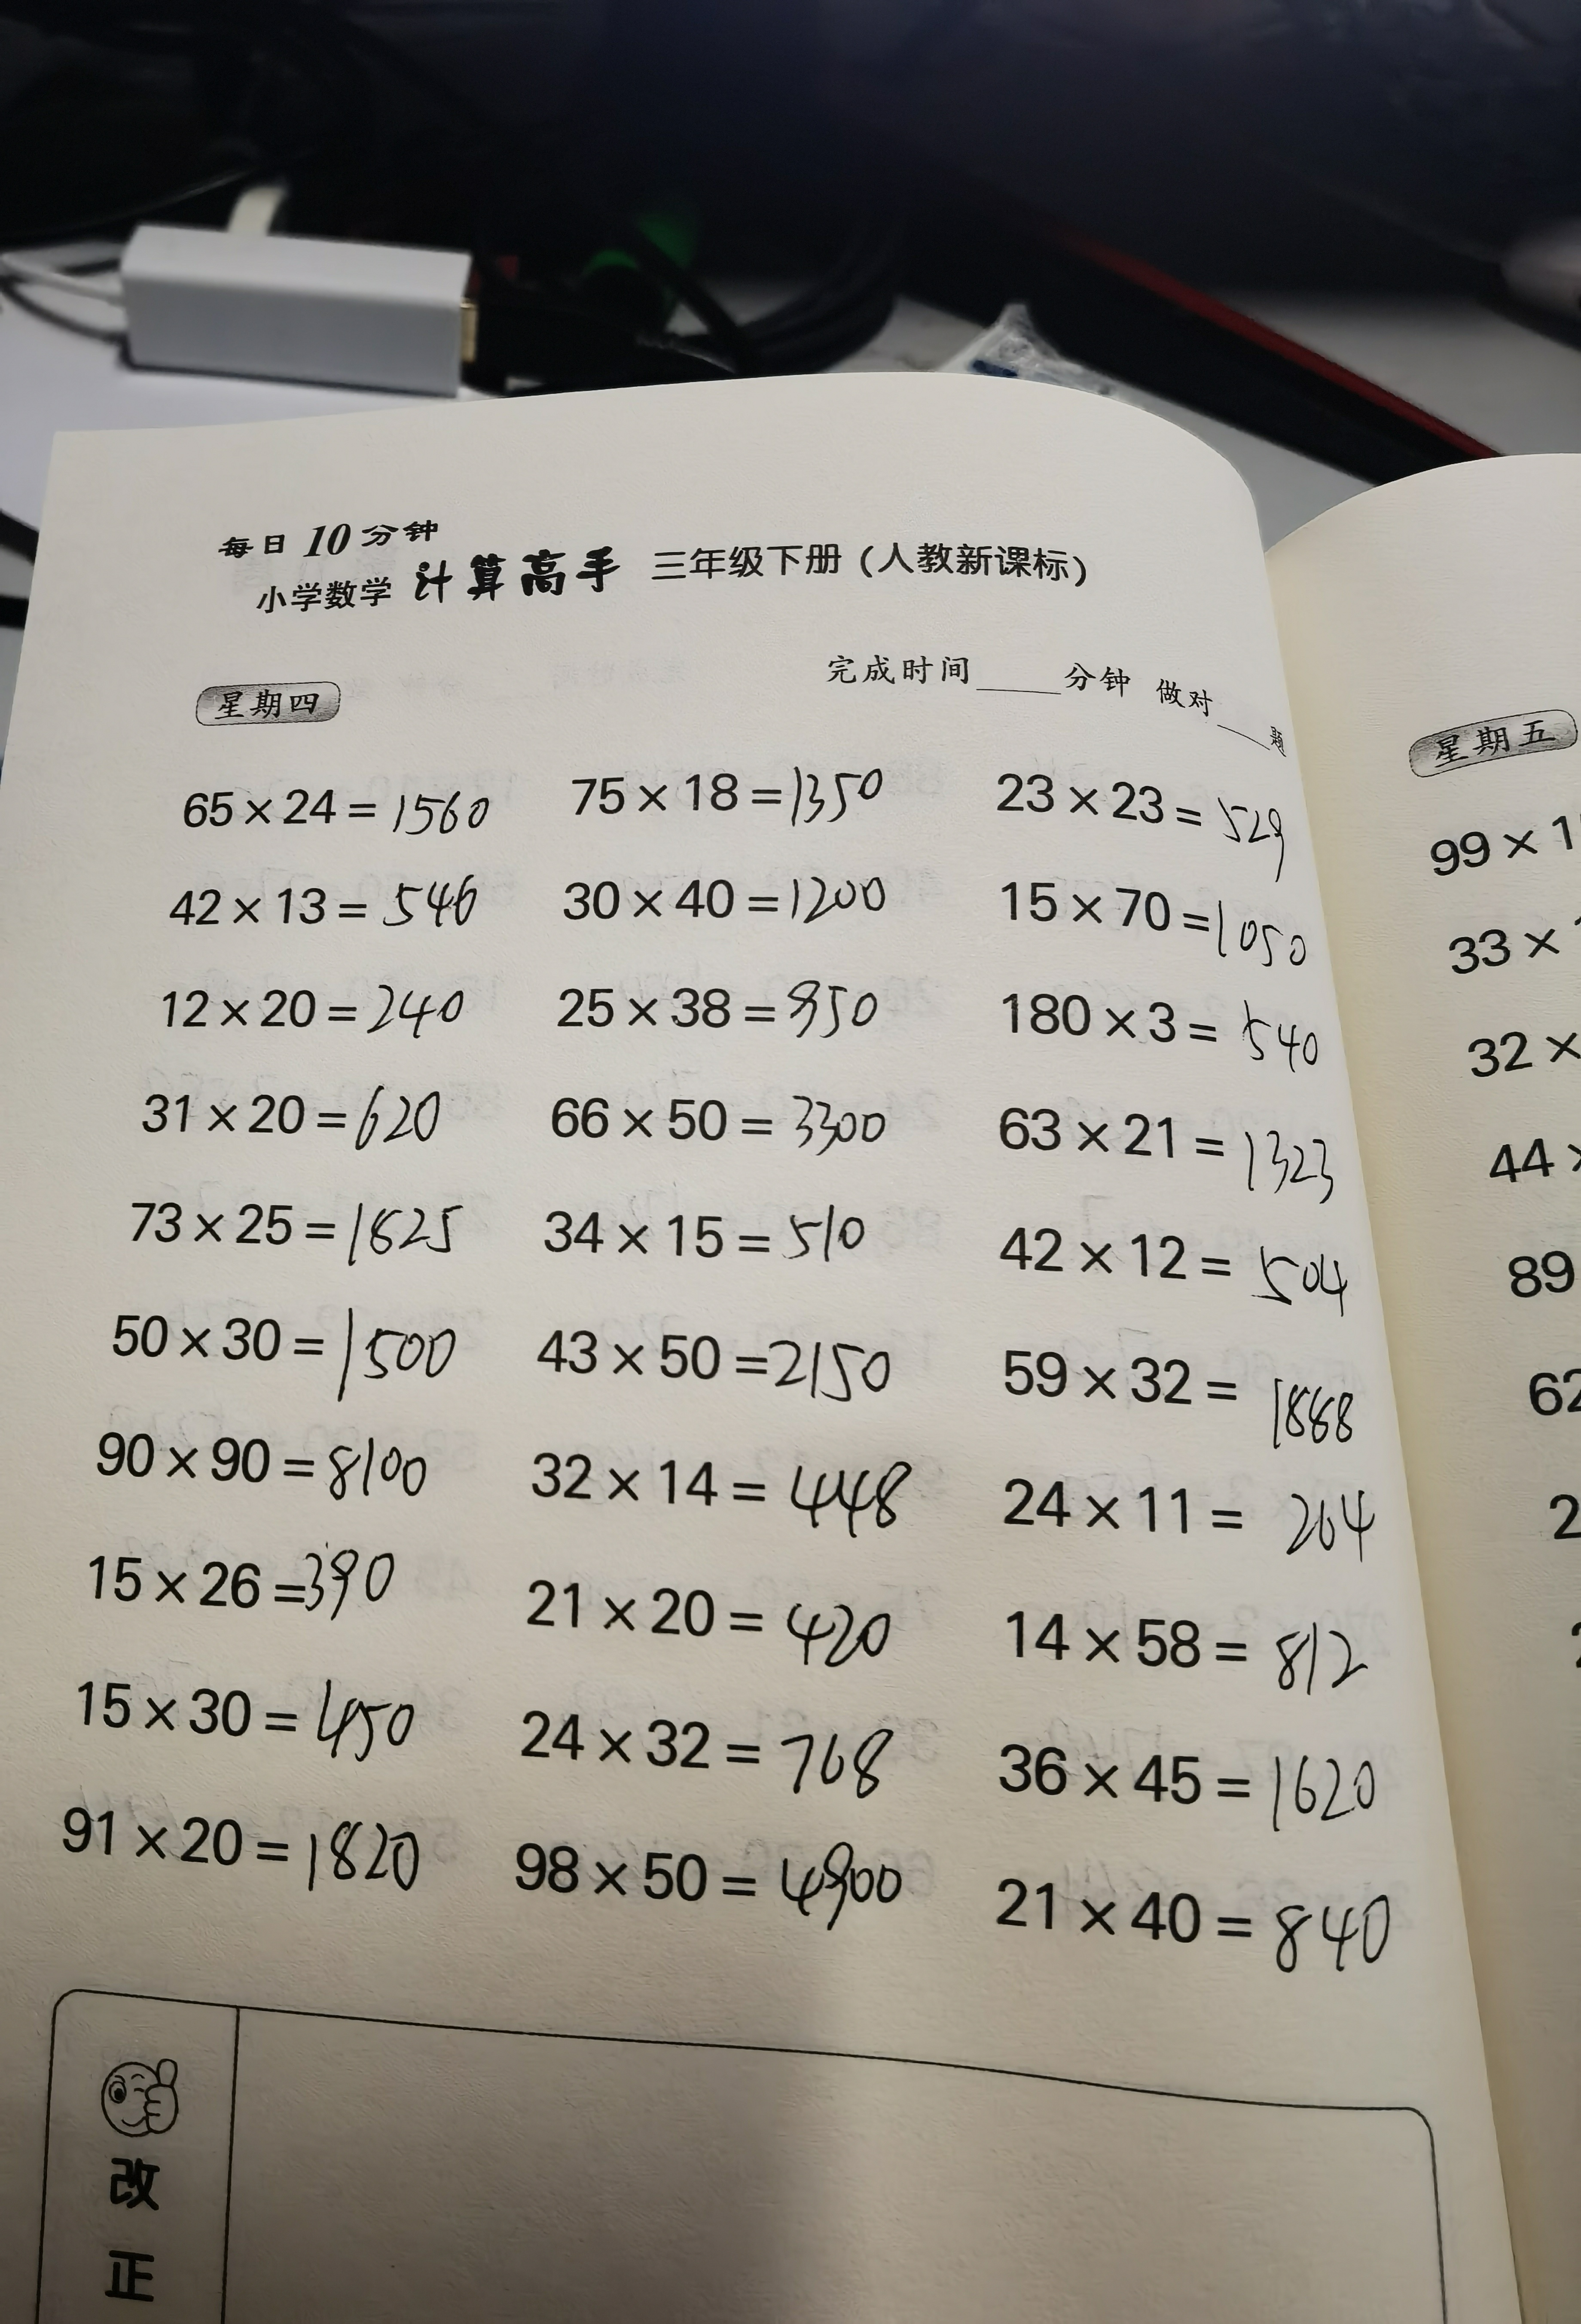equation: (30, 1765, 439, 1908), (985, 1560, 1394, 1699), (1000, 1851, 1405, 1990), (974, 1323, 1403, 1451), (999, 1692, 1389, 1826), (528, 1417, 935, 1541), (505, 1807, 926, 1923), (510, 1683, 937, 1798), (1004, 967, 1378, 1089), (72, 1405, 436, 1528), (974, 736, 1313, 868), (1000, 1456, 1396, 1569), (974, 1221, 1396, 1323), (515, 1562, 903, 1669), (529, 1301, 903, 1412), (988, 1094, 1362, 1205), (988, 854, 1322, 974), (515, 1062, 903, 1158), (78, 1661, 418, 1765), (97, 1306, 468, 1399), (547, 845, 905, 941), (85, 1528, 422, 1625), (132, 1184, 482, 1278), (152, 859, 489, 949), (132, 1082, 464, 1172), (166, 764, 494, 851), (547, 971, 905, 1048), (536, 759, 891, 835), (540, 1189, 877, 1269), (150, 962, 461, 1045)
